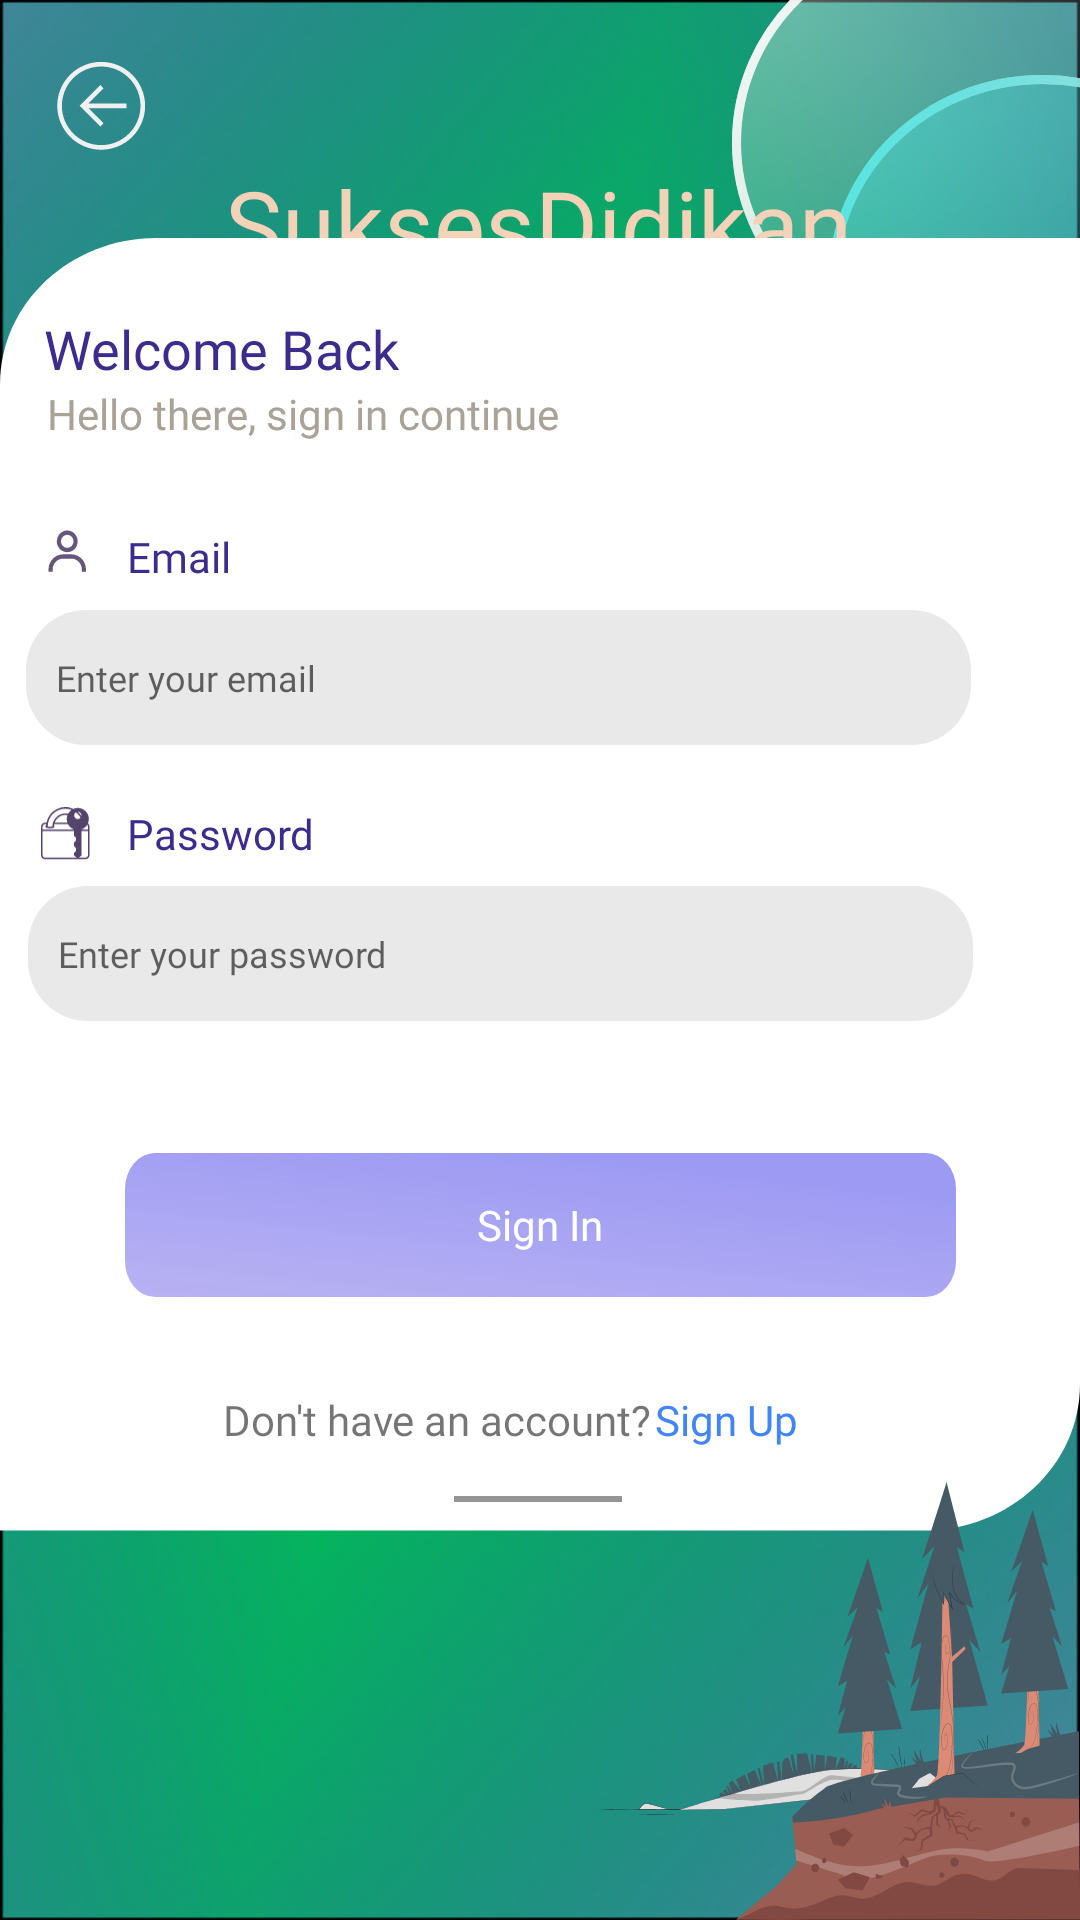

Locate icon controls on the screen. Image size 1080*1920, boxes as (x1, y1, x2, y2).
back: (57, 62, 145, 150)
user: (48, 530, 86, 572)
